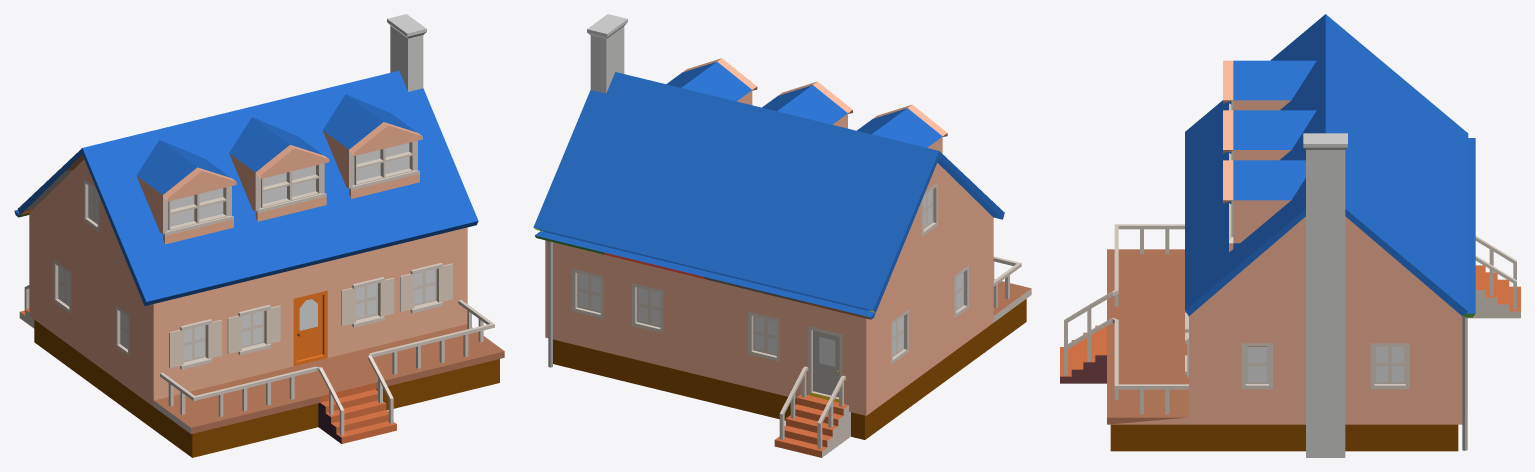
File: Building_22.fbx
3 views of the same model, side by side, from view 1: azimuth 30°, elevation 25°; view 2: azimuth 150°, elevation 25°; view 3: azimuth 270°, elevation 25° (orthographic). The views are drawn at different scales.
Parts seen in each view (by area): view 1: building-house-family-small; view 2: building-house-family-small; view 3: building-house-family-small.
Part boxes in pixels (x1=…): building-house-family-small: x1=14, y1=14, x2=504, y2=457; building-house-family-small: x1=533, y1=14, x2=1031, y2=457; building-house-family-small: x1=1060, y1=14, x2=1520, y2=457.
Size of the model in its own units: 5.18 by 4.24 by 5.62.
